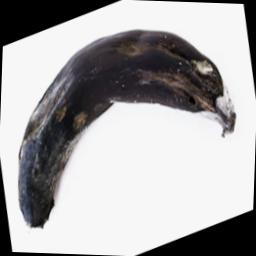Banana Rotten: (1, 22, 255, 244)
